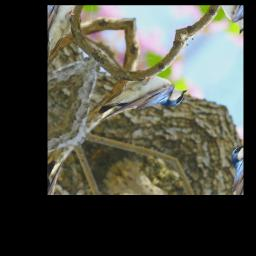Swallow: (86, 52, 190, 154)
